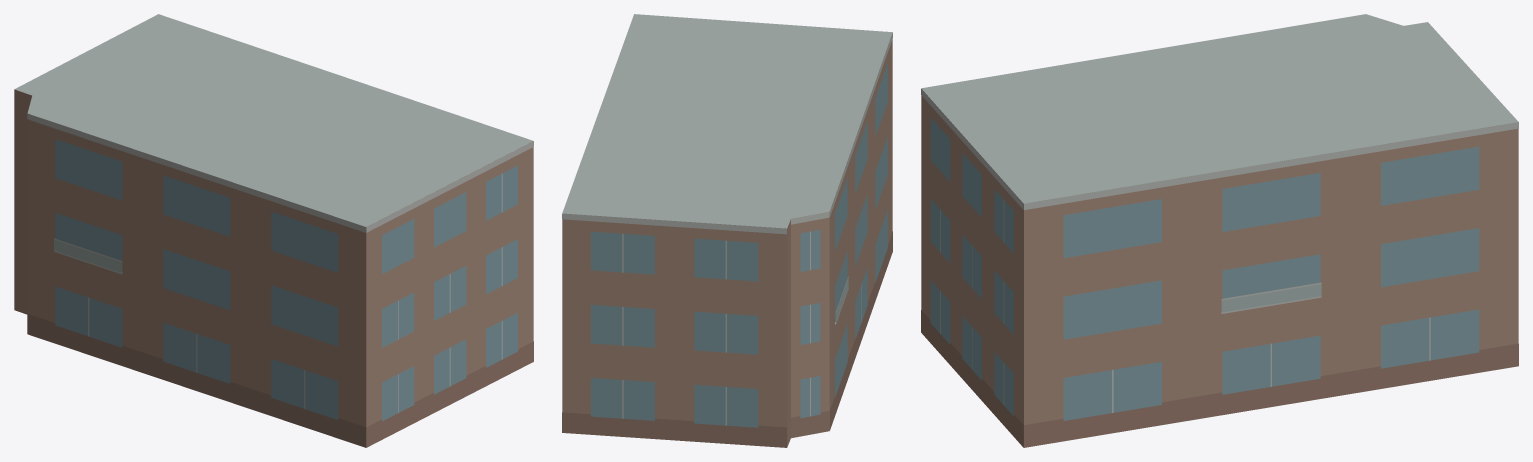
Rendered from survey-upis-32846611.glb.
3 views of the same model, side by side, from view 1: azimuth 30°, elevation 25°; view 2: azimuth 150°, elevation 25°; view 3: azimuth 270°, elevation 25° (orthographic). The views are drawn at different scales.
Visible parts, largest first — view 1: survey-upis-32846611.tmp; view 2: survey-upis-32846611.tmp; view 3: survey-upis-32846611.tmp.
Part boxes in pixels (bbox=[...]): survey-upis-32846611.tmp: bbox=[14, 14, 533, 447]; survey-upis-32846611.tmp: bbox=[562, 14, 892, 447]; survey-upis-32846611.tmp: bbox=[921, 14, 1518, 447].
Size of the model in its own units: 15.26 by 9.15 by 20.31.
